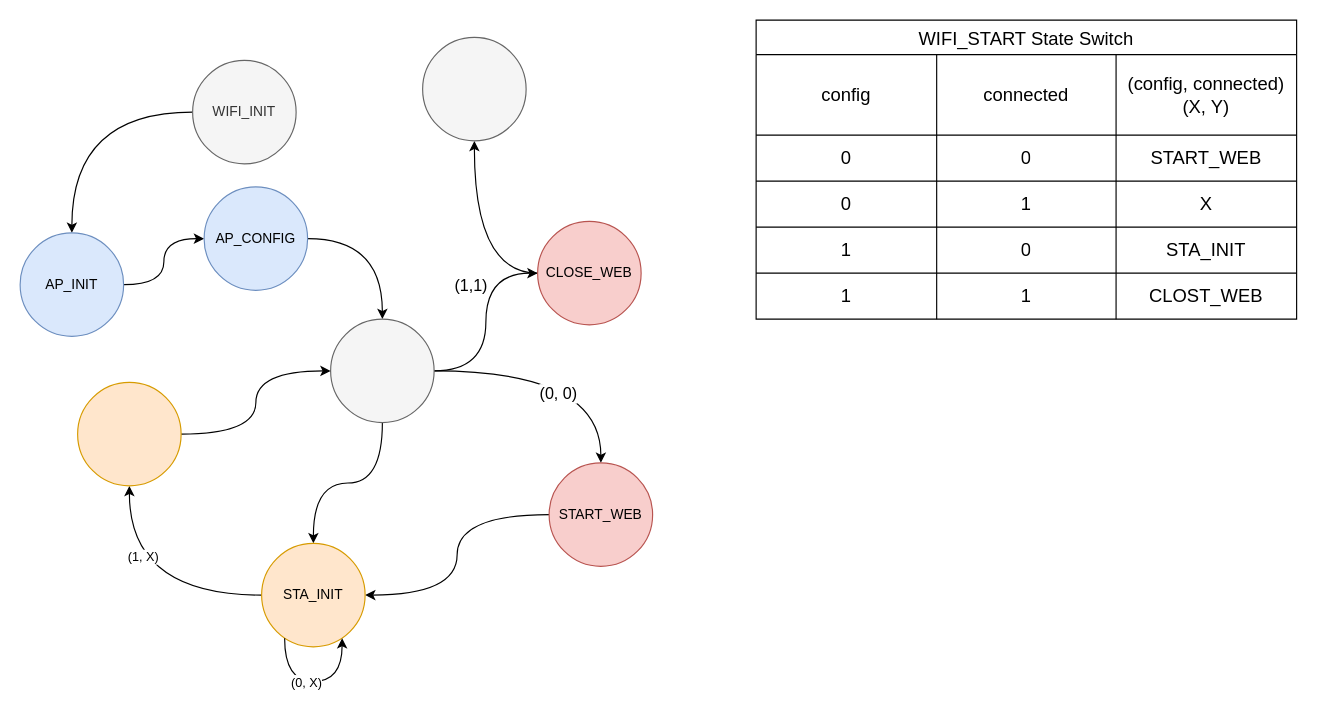
The diagram is 1317 pixels wide and 710 high, and some of its shapes have lost their labels. Each missing label, with the box of its shape:
STA_CONFIG: (76, 381, 181, 486)
WIFI_IDLE: (421, 36, 526, 141)
WIFI_START: (329, 318, 434, 423)
